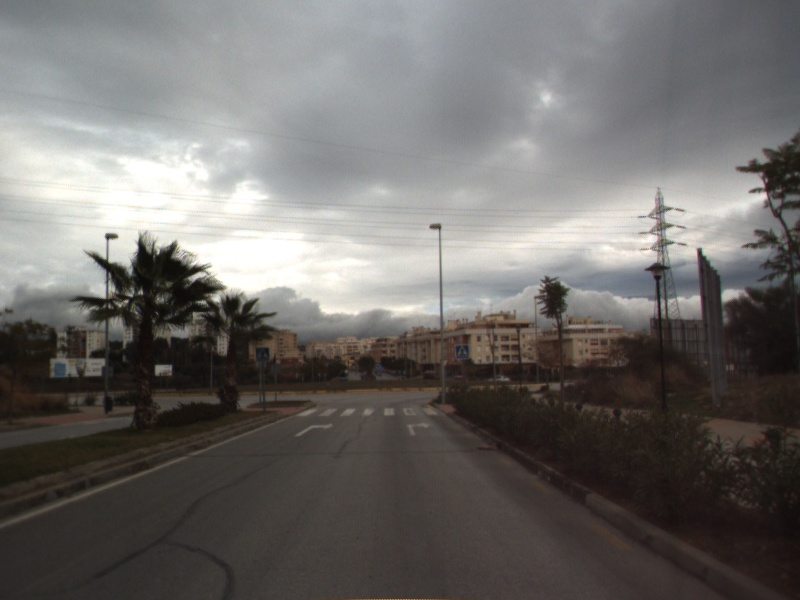RIGHT: (293, 421, 336, 438), (405, 420, 432, 437)
